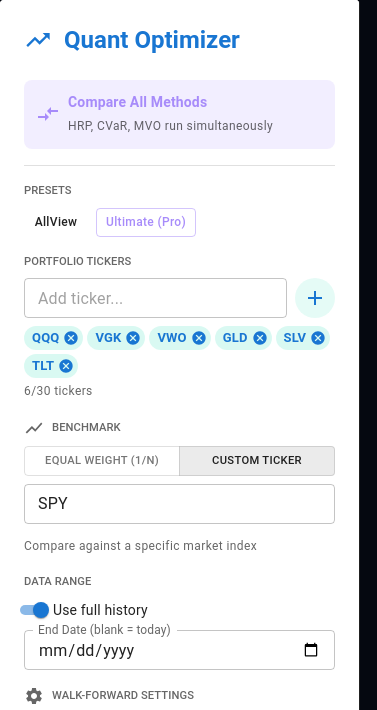
Test case: Sidebar parameter guard › refuses a duplicate ticker
Type "QQQ" into the field with placeholder "Add ticker..." at (156, 298), box [24,278,287,318]
Then press Enter
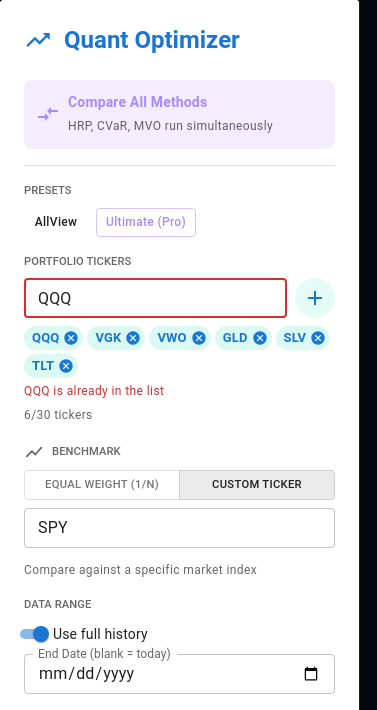
Expected: the text "6/30 tickers" is shown, [24,408,93,422]
Now the text "QQQ is already in the list" is shown, box [24,384,164,398]
